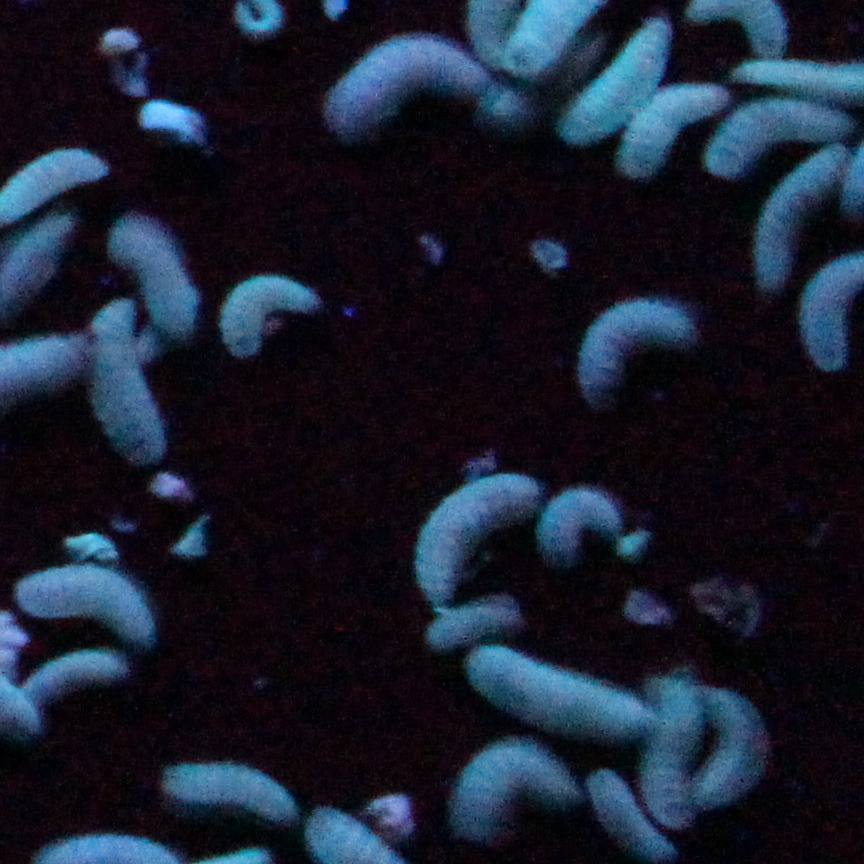larve: (488, 657, 653, 741), (423, 469, 525, 582), (334, 45, 458, 125), (564, 36, 669, 129), (755, 155, 827, 289), (26, 569, 167, 637), (595, 292, 690, 387), (109, 313, 167, 454), (170, 754, 301, 813), (713, 106, 830, 171), (590, 762, 667, 860), (464, 748, 553, 832), (625, 87, 713, 166), (128, 215, 192, 318), (236, 271, 319, 349), (704, 699, 757, 815), (658, 678, 692, 818), (425, 599, 513, 650), (38, 649, 121, 696), (551, 492, 606, 555)
